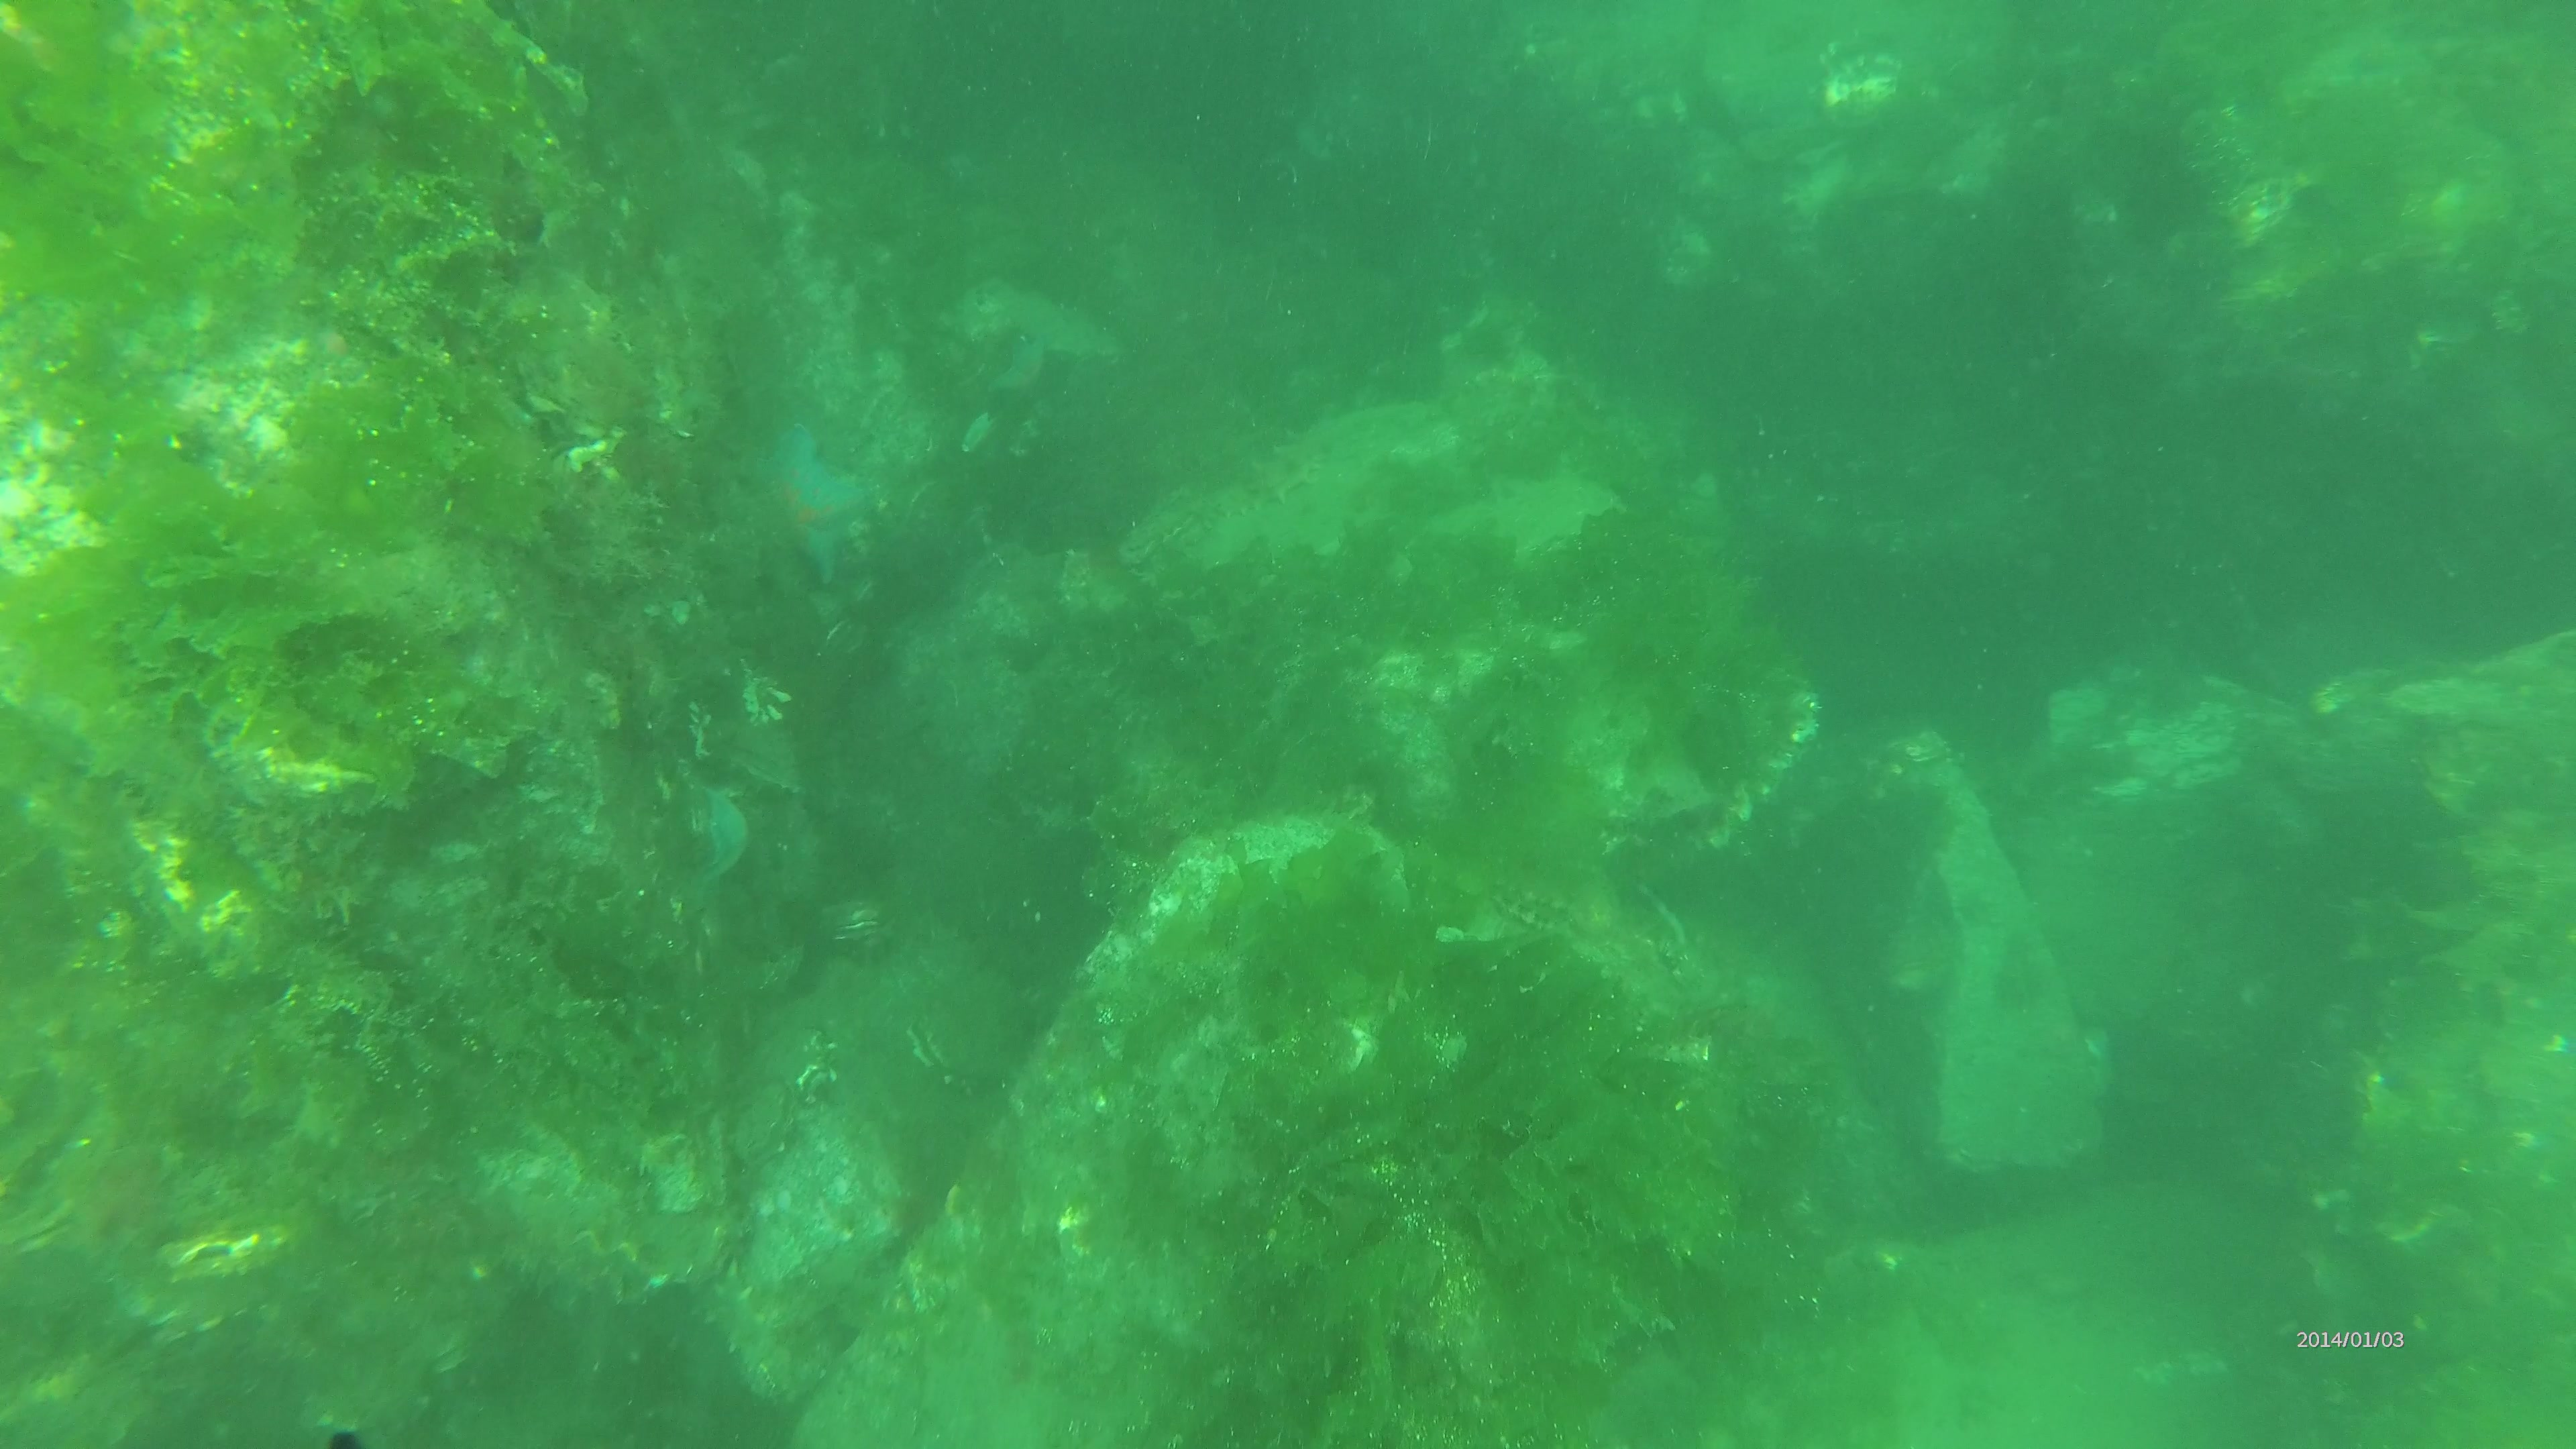starfish: (755, 419, 872, 582), (695, 782, 755, 888)
